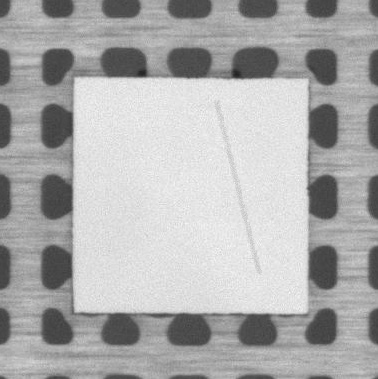DIE_CRACK: (216, 103, 258, 274)
